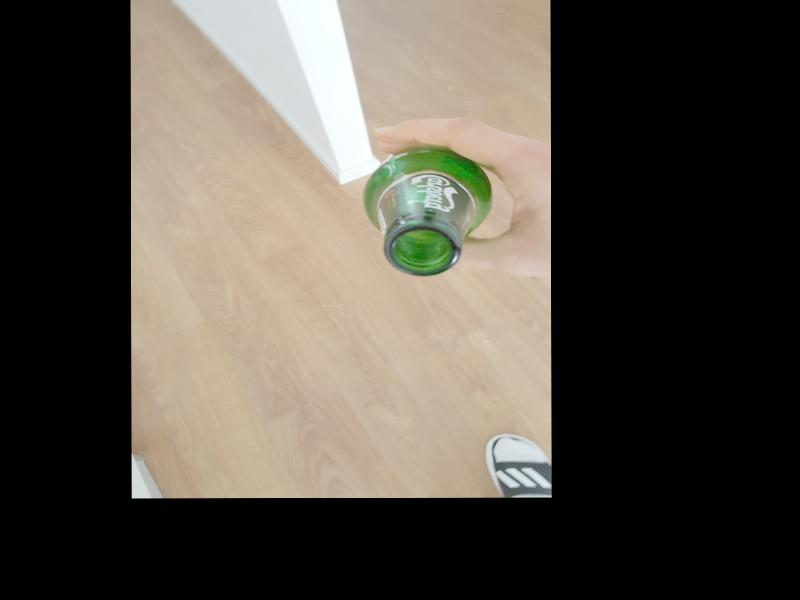Beer: (362, 146, 495, 276)
